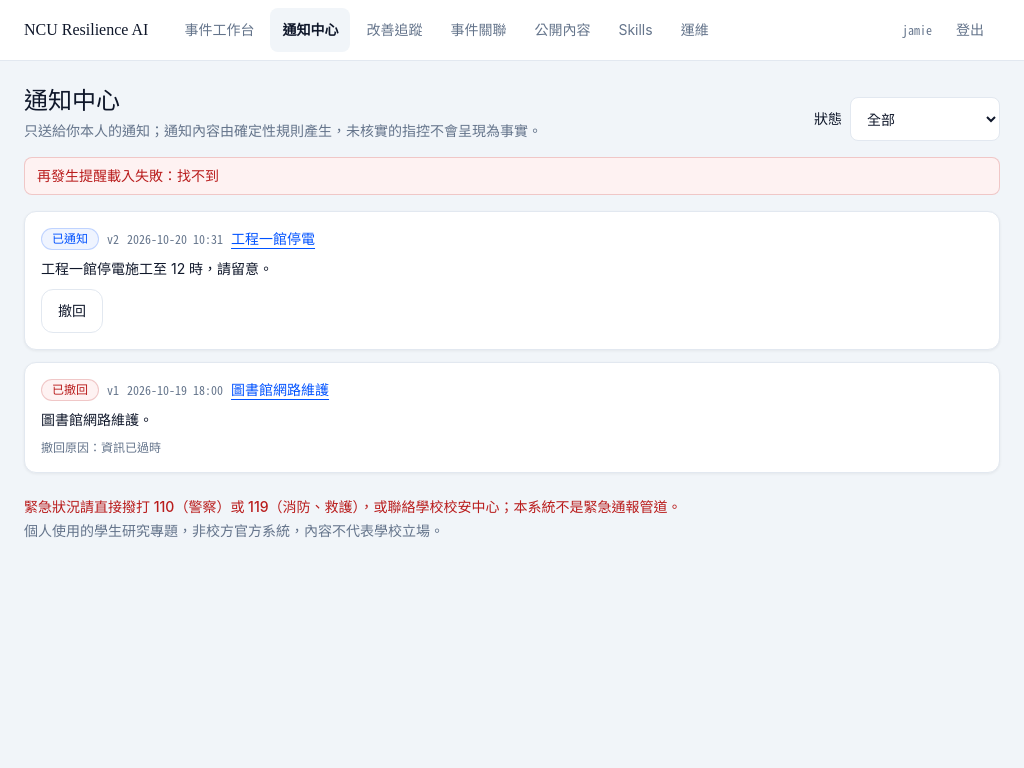
Scenario: AlertCenter › 撤回原因含個資時顯示伺服器訊息
Click the button "撤回" at (72, 311), box [41, 289, 103, 333]
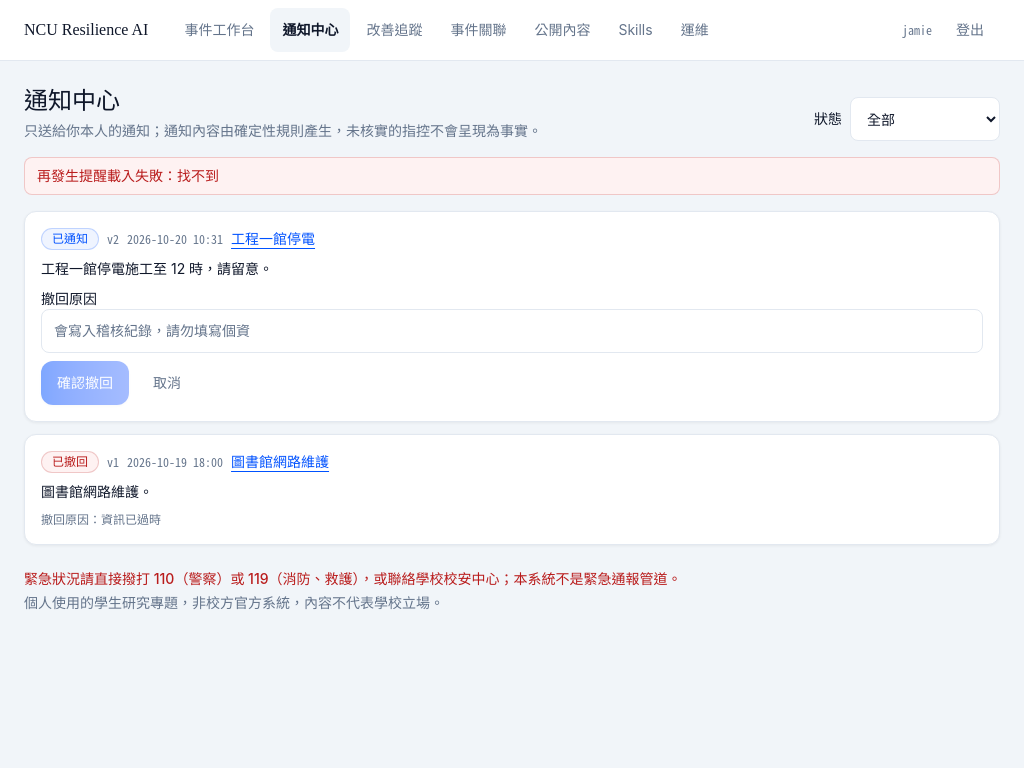
Type "0912345678" into the field labelled "撤回原因" at (512, 331), box [41, 309, 983, 353]
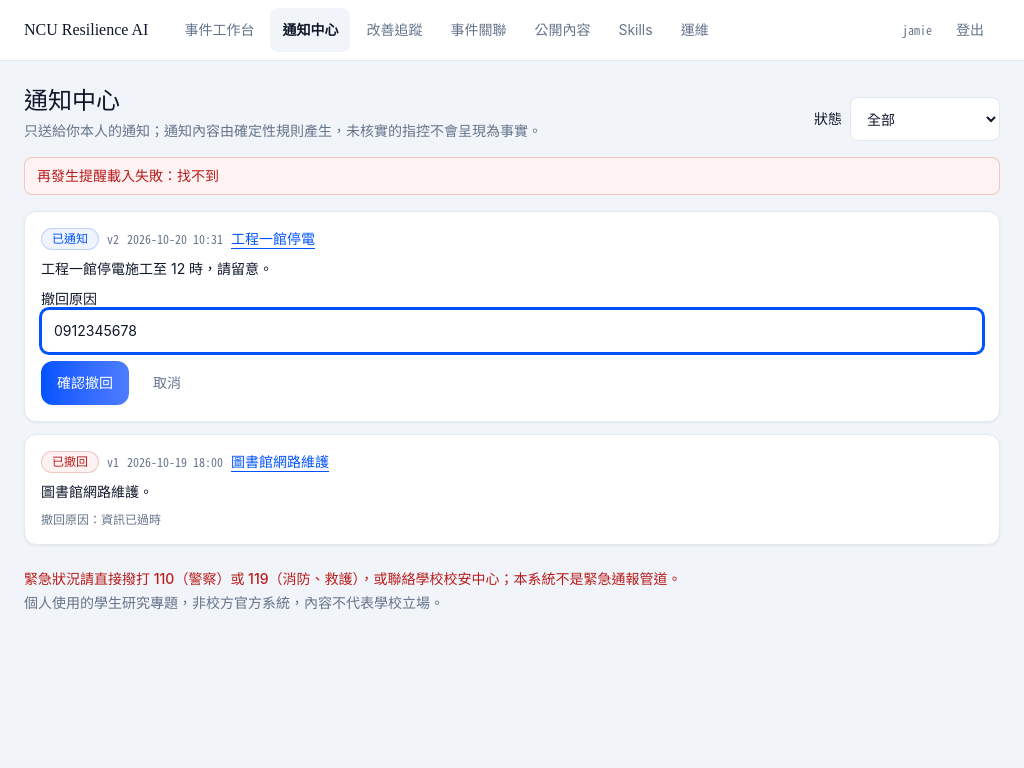
Click the button "確認撤回" at (85, 383), box [41, 361, 129, 405]
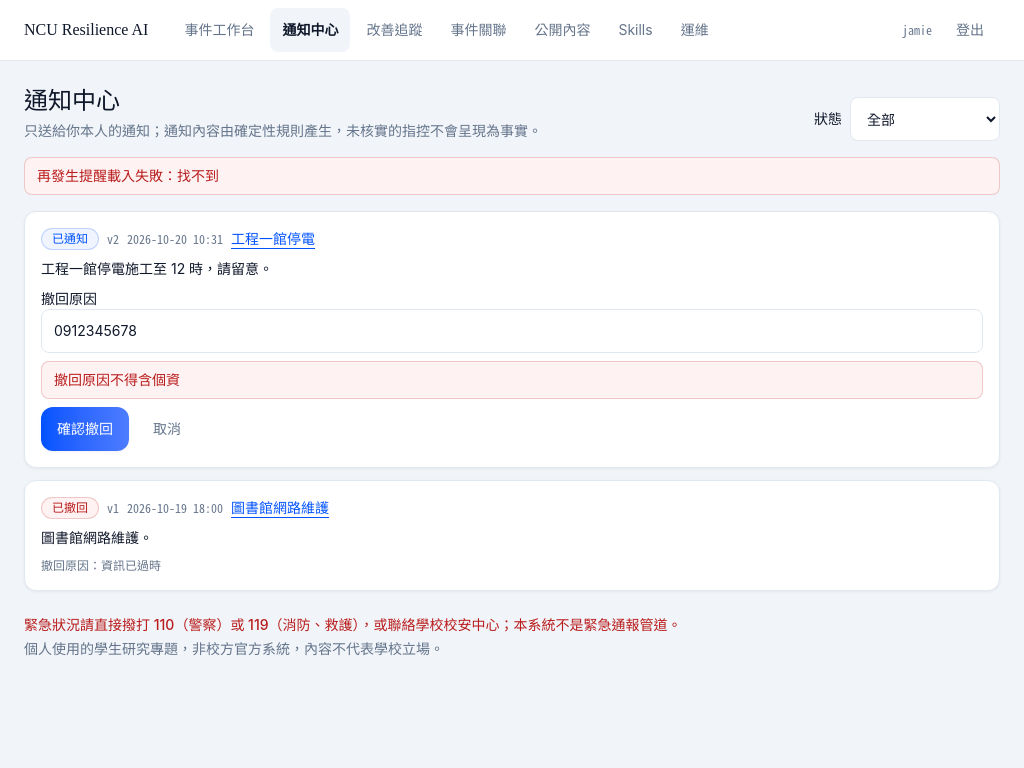
Expected: the message "撤回原因不得含個資" is shown, [41, 361, 983, 399]
